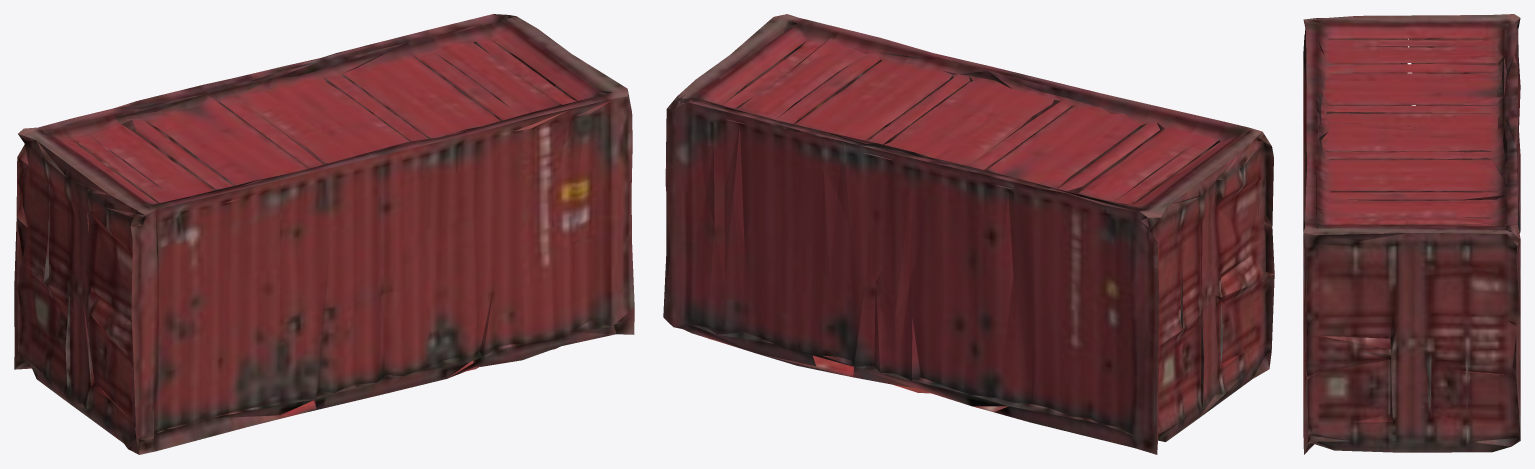
File: cargo_container_rusty_red.glb
3 renders of one model, left to right at view 1: azimuth 30°, elevation 25°; view 2: azimuth 150°, elevation 25°; view 3: azimuth 270°, elevation 25°, orthographic. The views are drawn at different scales.
Visible parts, largest first — view 1: turn; view 2: turn; view 3: turn.
Boxes of the visible parts, left/top/right/bottom form: turn: left=14, top=14, right=634, bottom=454; turn: left=663, top=14, right=1274, bottom=454; turn: left=1303, top=14, right=1520, bottom=454.
Bounding box in the file's own units: 5.66 × 2.6 × 2.33.
1 material, 1 textured.
